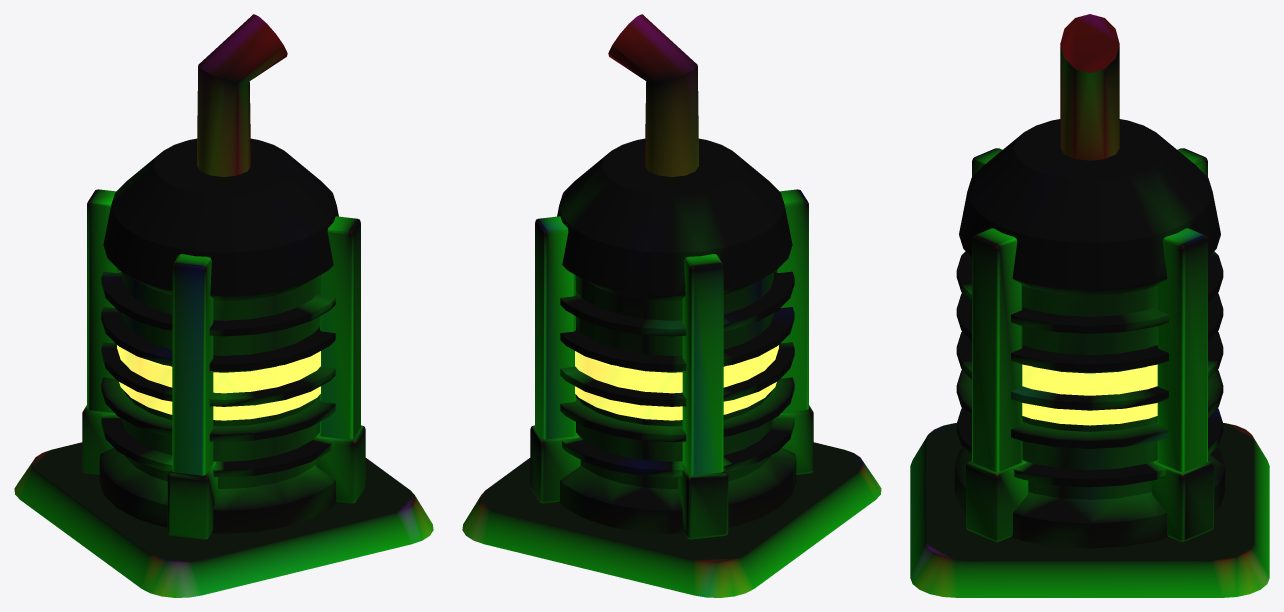
Rendered from hero_geothermal_generator.glb.
3 views of the same model, side by side, from view 1: azimuth 30°, elevation 25°; view 2: azimuth 150°, elevation 25°; view 3: azimuth 270°, elevation 25° (orthographic). The views are drawn at different scales.
Visible parts, largest first — view 1: HeroGeothermalGen; view 2: HeroGeothermalGen; view 3: HeroGeothermalGen.
Part boxes in pixels (x1,y1,x2,y2): HeroGeothermalGen: (14,14,433,597); HeroGeothermalGen: (462,14,881,597); HeroGeothermalGen: (910,14,1269,597).
Size of the model in its own units: 3.4 by 5.5 by 3.4.
